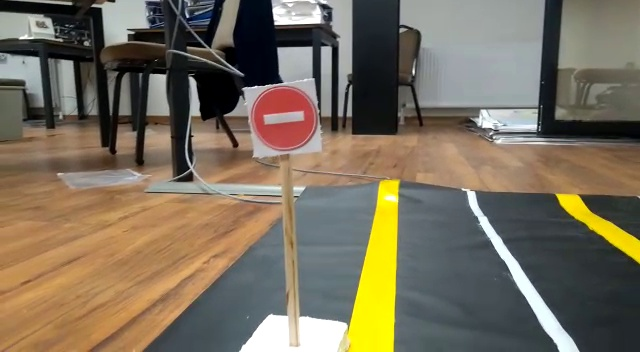girisi_olmayan_yol: (240, 86, 320, 153)
